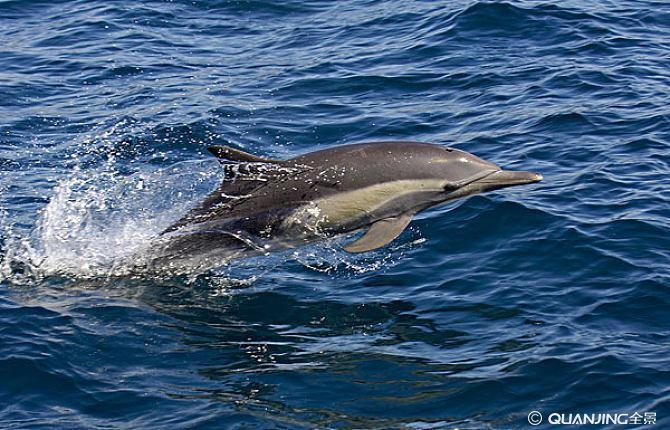fish: (111, 141, 544, 290)
